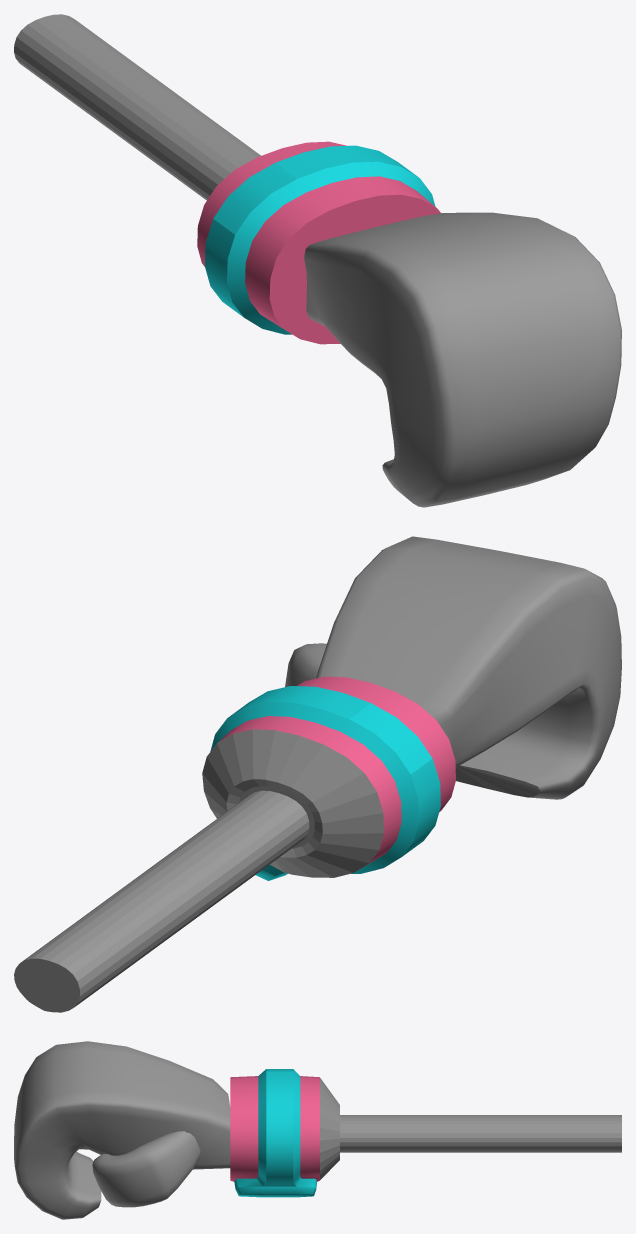
Rendered from Guante con Cilindro Final.FBX.
3 renders of one model, top to bottom at view 1: azimuth 30°, elevation 25°; view 2: azimuth 150°, elevation 25°; view 3: azimuth 270°, elevation 25°, orthographic. The views are drawn at different scales.
Parts seen in each view (by area): view 1: Box005; view 2: Box005; view 3: Box005.
Part boxes in pixels (box(x1,y1,x2,y2)): Box005: box(14, 14, 621, 507); Box005: box(14, 536, 621, 1012); Box005: box(14, 1041, 621, 1219).
Size of the model in its own units: 34.15 by 30.63 by 119.
